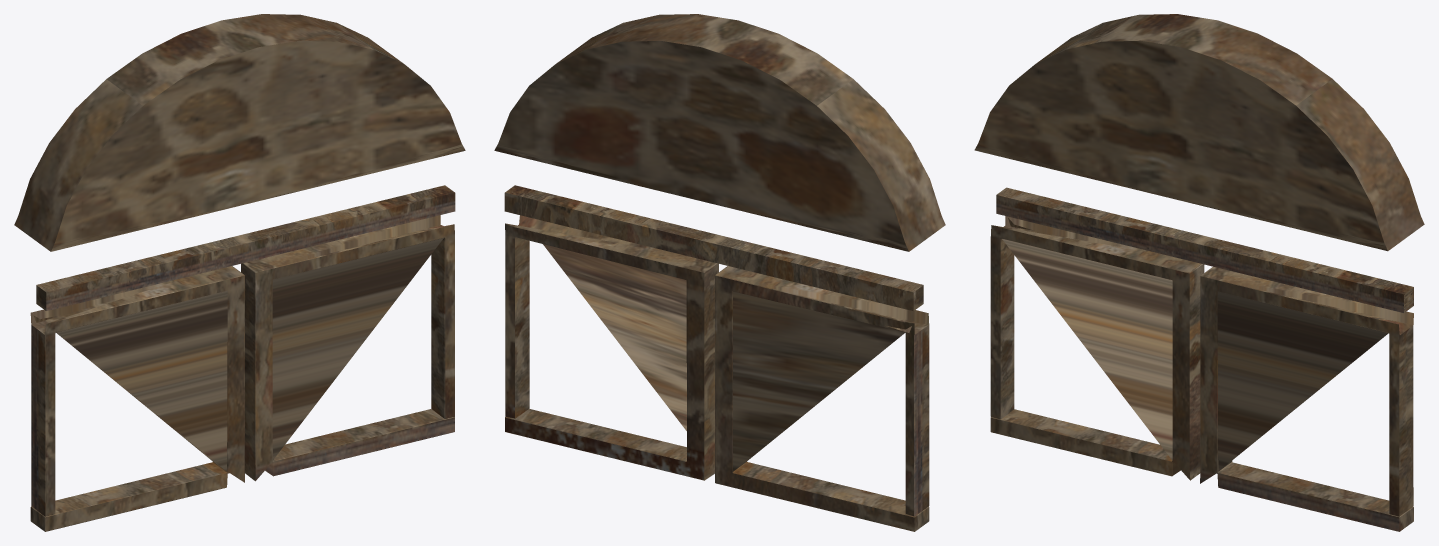
Rendered from Window.fbx.
3 views of the same model, side by side, from view 1: azimuth 30°, elevation 25°; view 2: azimuth 150°, elevation 25°; view 3: azimuth 330°, elevation 25° (orthographic).
Parts seen in each view (by area): view 1: Window; view 2: Window; view 3: Window.
Part boxes in pixels (x1,y1,x2,y2): Window: (14, 14, 465, 531); Window: (494, 14, 945, 531); Window: (974, 14, 1424, 531).
Size of the model in its own units: 2.62 by 2.67 by 0.3997.
1 material, 1 textured.
